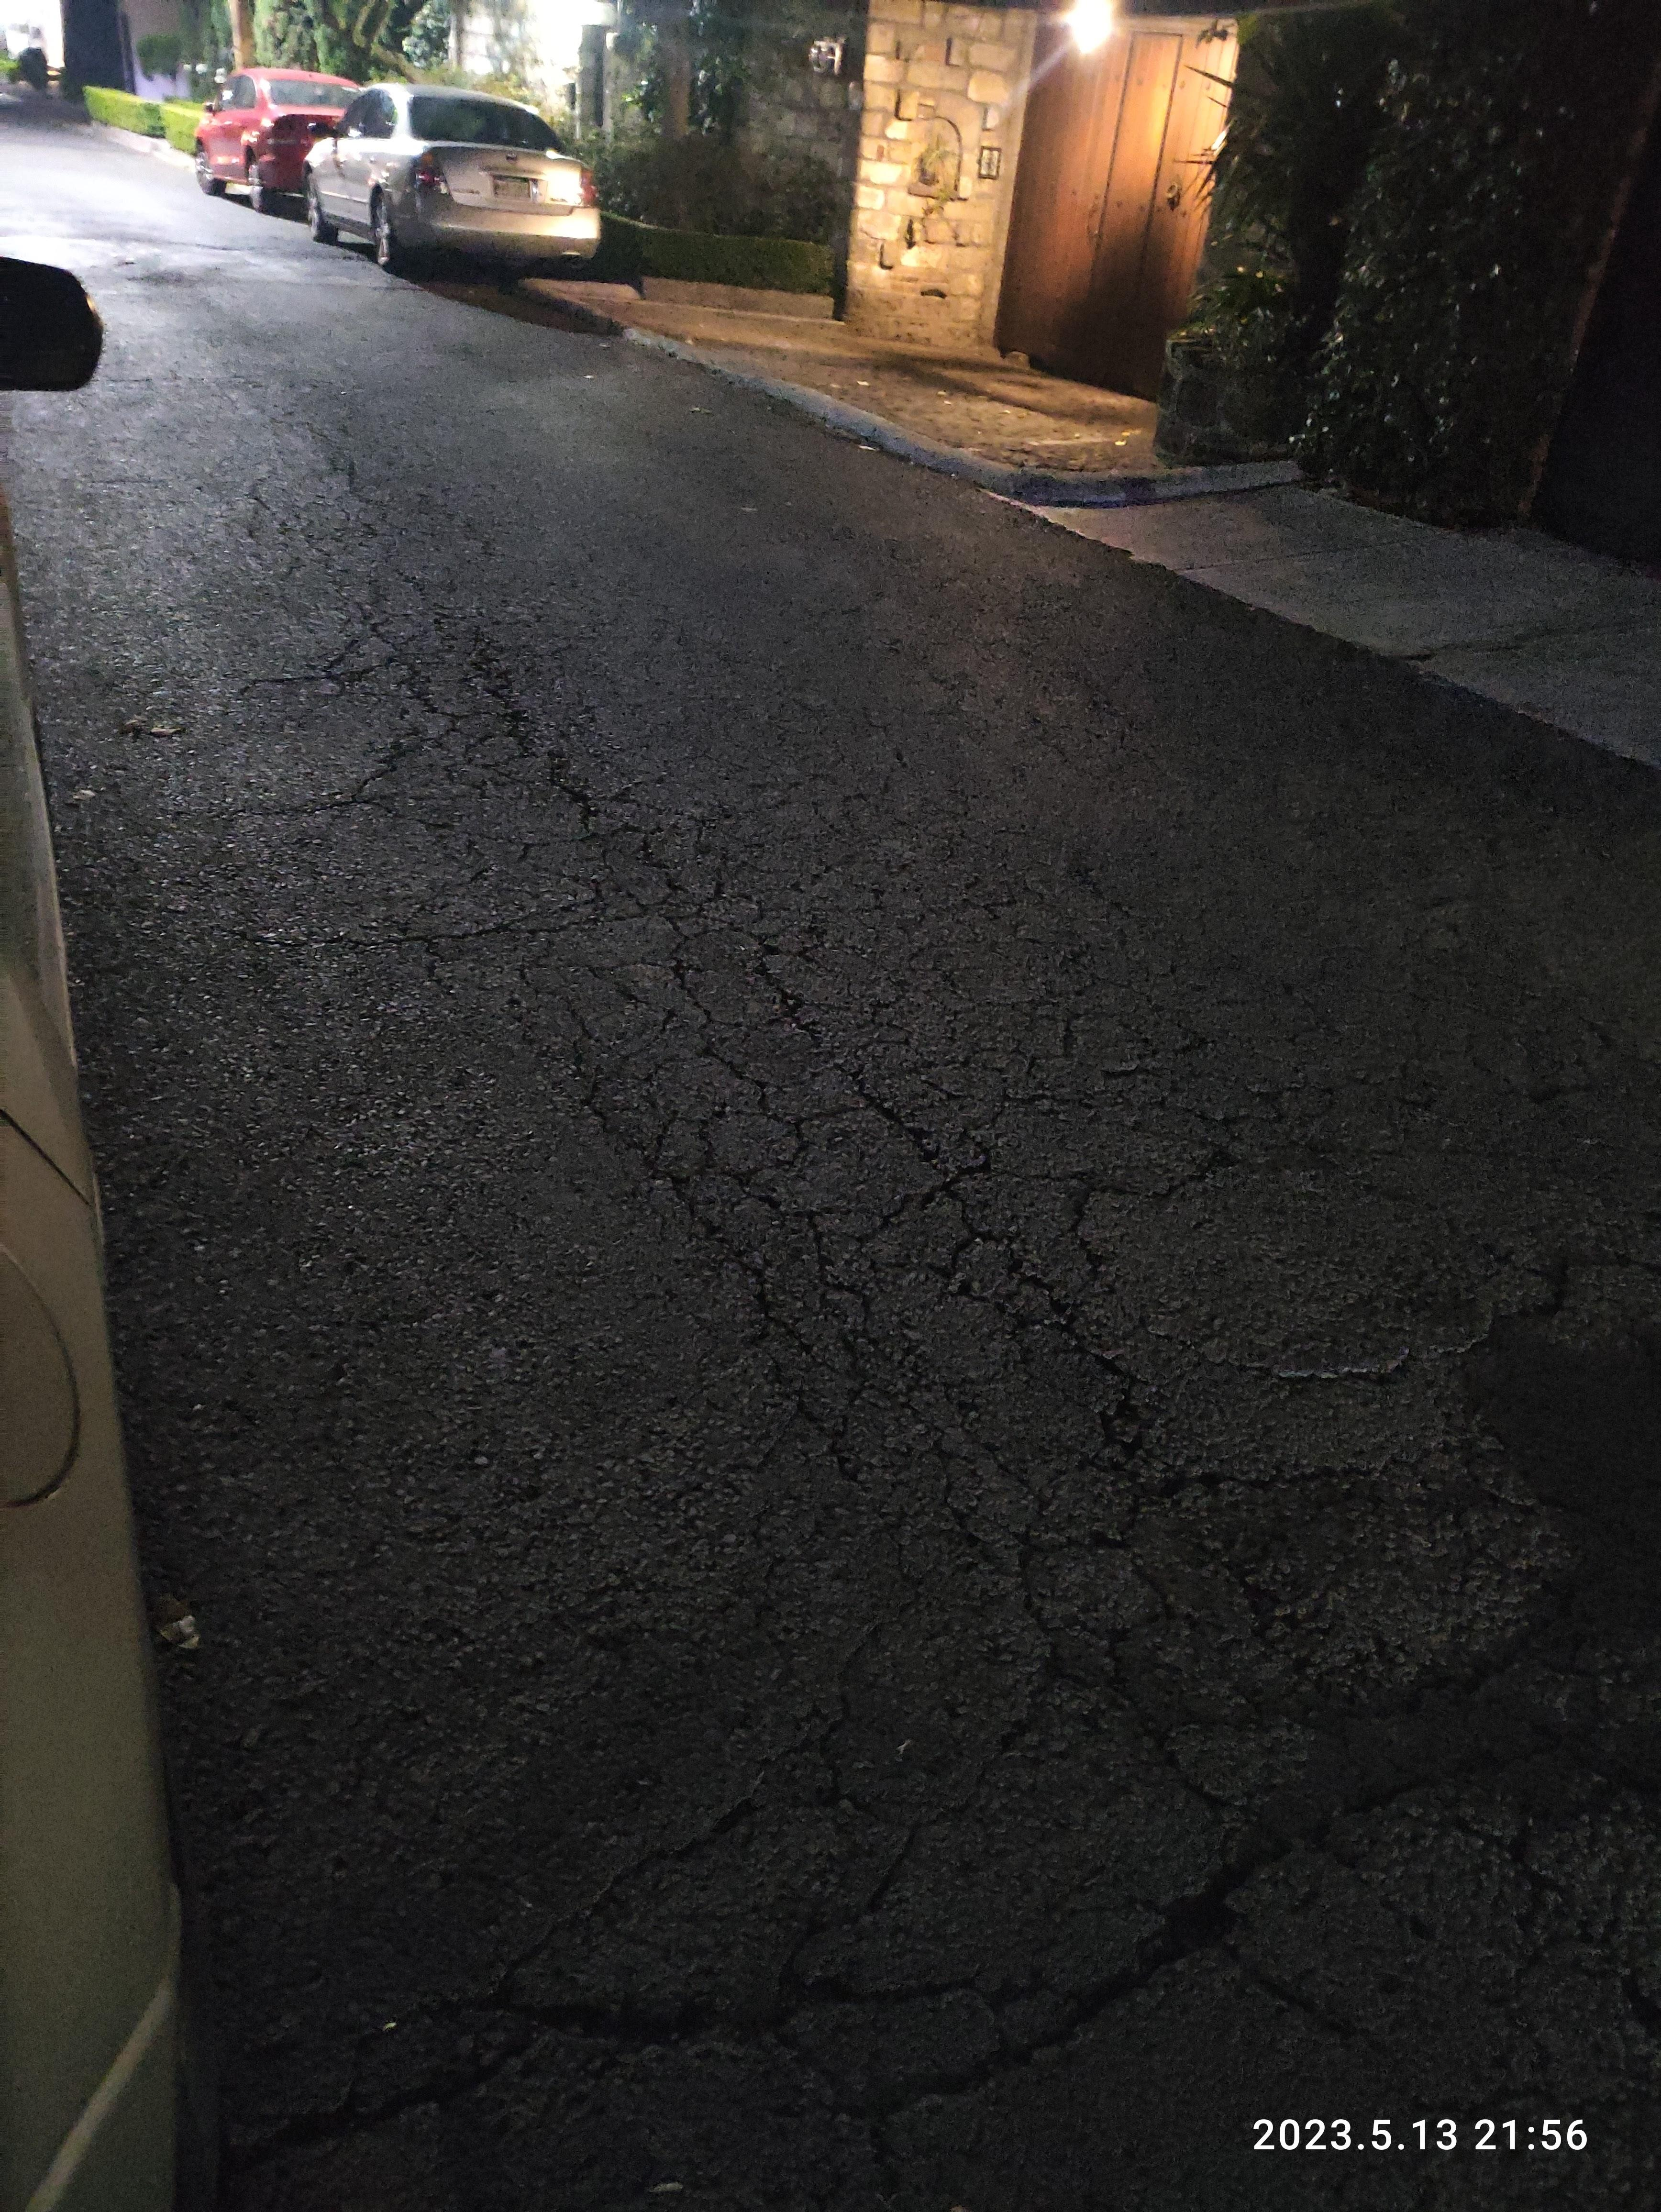alligator-crack: (181, 537, 1553, 2212)
